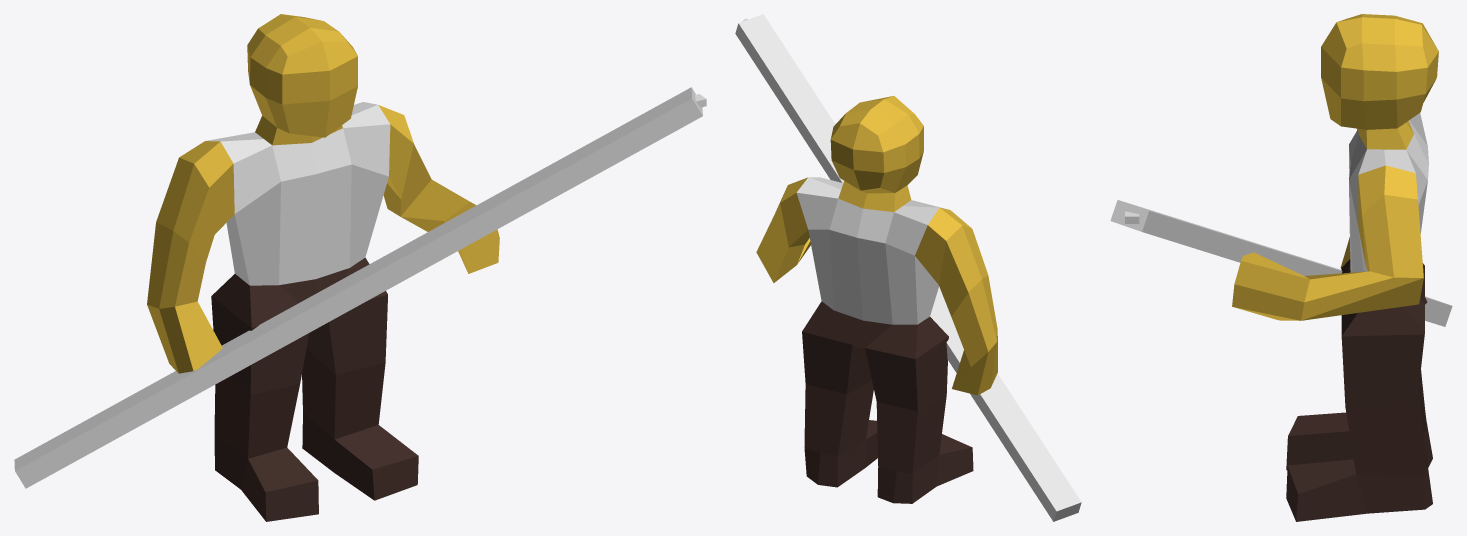
The model's file is brigand.glb.
The picture shows the model from 3 angles, left to right: view 1: azimuth 30°, elevation 25°; view 2: azimuth 150°, elevation 25°; view 3: azimuth 270°, elevation 25°; orthographic projection. The views are drawn at different scales.
Parts seen in each view (by area): view 1: Cube.001, Cube; view 2: Cube.001, Cube; view 3: Cube.001, Cube.
Boxes of the visible parts, x1,y1,x2,y2 form: Cube.001: (147, 14, 499, 521); Cube: (14, 87, 702, 488); Cube.001: (756, 96, 997, 503); Cube: (735, 14, 1081, 521); Cube.001: (1232, 14, 1438, 521); Cube: (1110, 200, 1452, 326).
Size of the model in its own units: 2.73 by 2.14 by 1.42.
